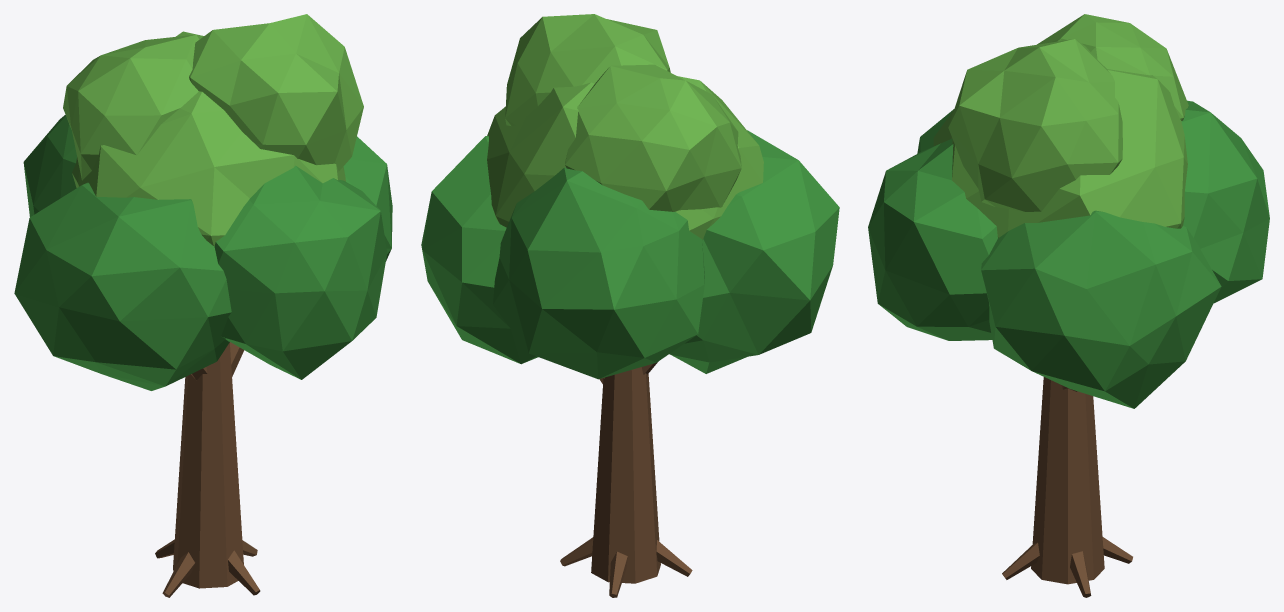
Rendered from OakTree.fbx.
3 renders of one model, left to right at view 1: azimuth 30°, elevation 25°; view 2: azimuth 150°, elevation 25°; view 3: azimuth 270°, elevation 25°, orthographic. The views are drawn at different scales.
Parts seen in each view (by area): view 1: Leaves, LeavesLight, Trunk; view 2: Leaves, LeavesLight, Trunk; view 3: Leaves, LeavesLight, Trunk.
Part boxes in pixels (x1,y1,x2,y2): Leaves: (14, 115, 392, 390); LeavesLight: (63, 14, 363, 246); Trunk: (155, 342, 260, 597); Leaves: (421, 130, 839, 379); LeavesLight: (487, 14, 763, 239); Trunk: (560, 361, 692, 597); Leaves: (868, 100, 1269, 408); LeavesLight: (933, 14, 1188, 237); Trunk: (1002, 377, 1132, 597).
Size of the model in its own units: 11.61 by 16.39 by 10.91.
